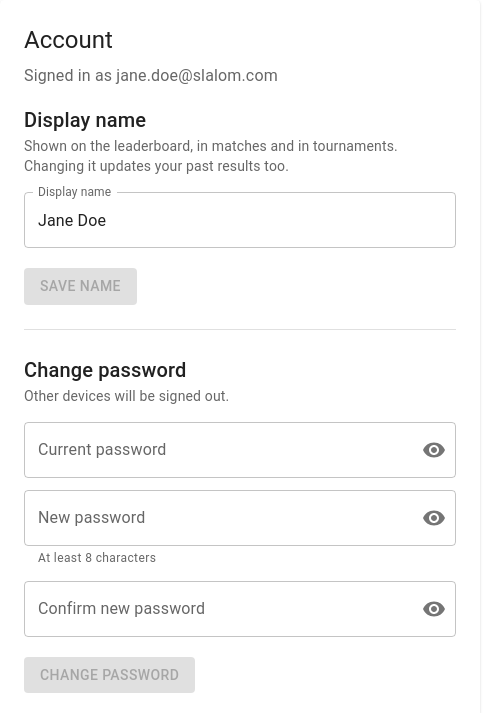
AccountPage display name › saves the trimmed name and updates the signed-in user
Replace the text in the field labelled "Display name" with "  Janie   D " at (240, 220), box 24,192 -> 456,248
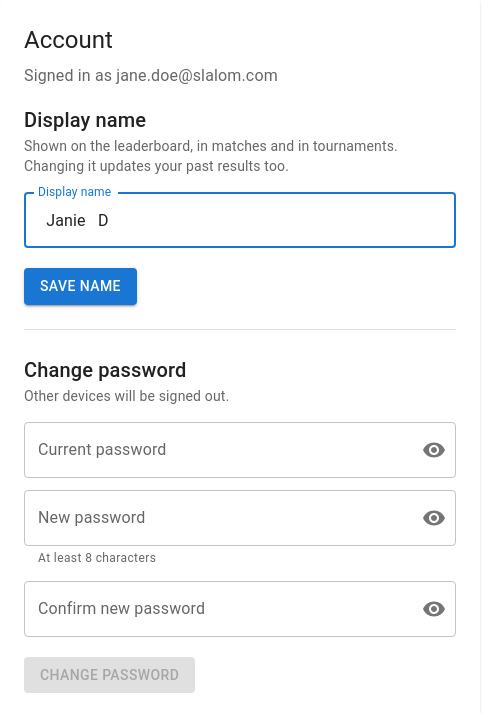
Click the button "Save name" at (80, 287), box 24,268 -> 137,305
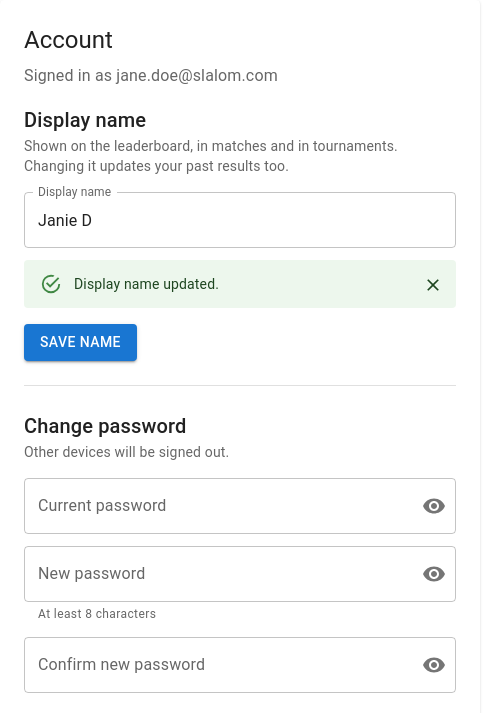
Result: the text "Display name updated." is shown at 74,276 -> 219,292
